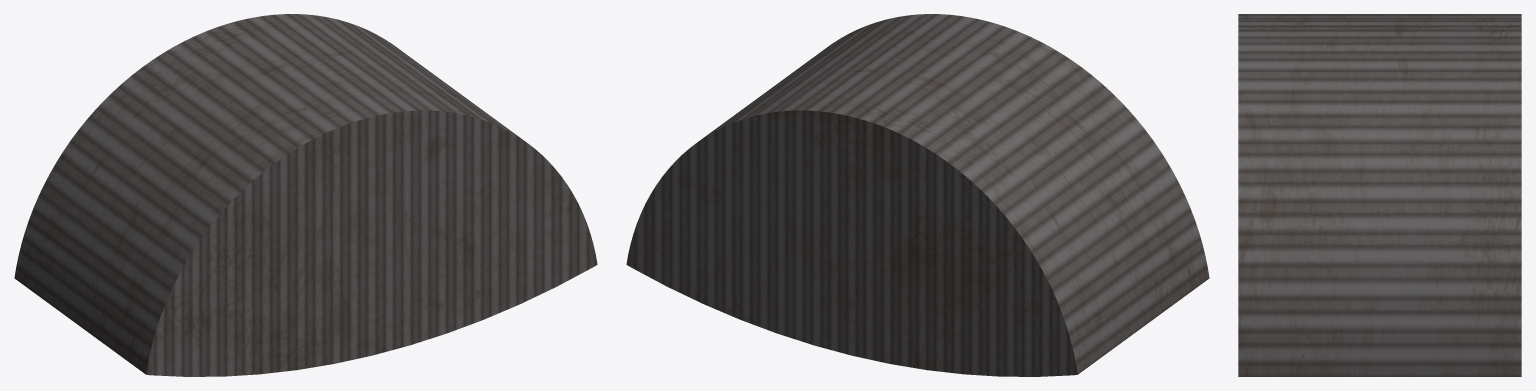
The model's file is gate-part4.fbx.
3 renders of one model, left to right at view 1: azimuth 30°, elevation 25°; view 2: azimuth 150°, elevation 25°; view 3: azimuth 270°, elevation 25°, orthographic. The views are drawn at different scales.
Visible parts, largest first — view 1: Moving-small-cylinder; view 2: Moving-small-cylinder; view 3: Moving-small-cylinder.
Boxes of the visible parts, x1=… form: Moving-small-cylinder: x1=14, y1=14, x2=597, y2=376; Moving-small-cylinder: x1=626, y1=14, x2=1209, y2=376; Moving-small-cylinder: x1=1238, y1=14, x2=1521, y2=376.
Size of the model in its own units: 0.2966 by 0.15 by 0.15.
